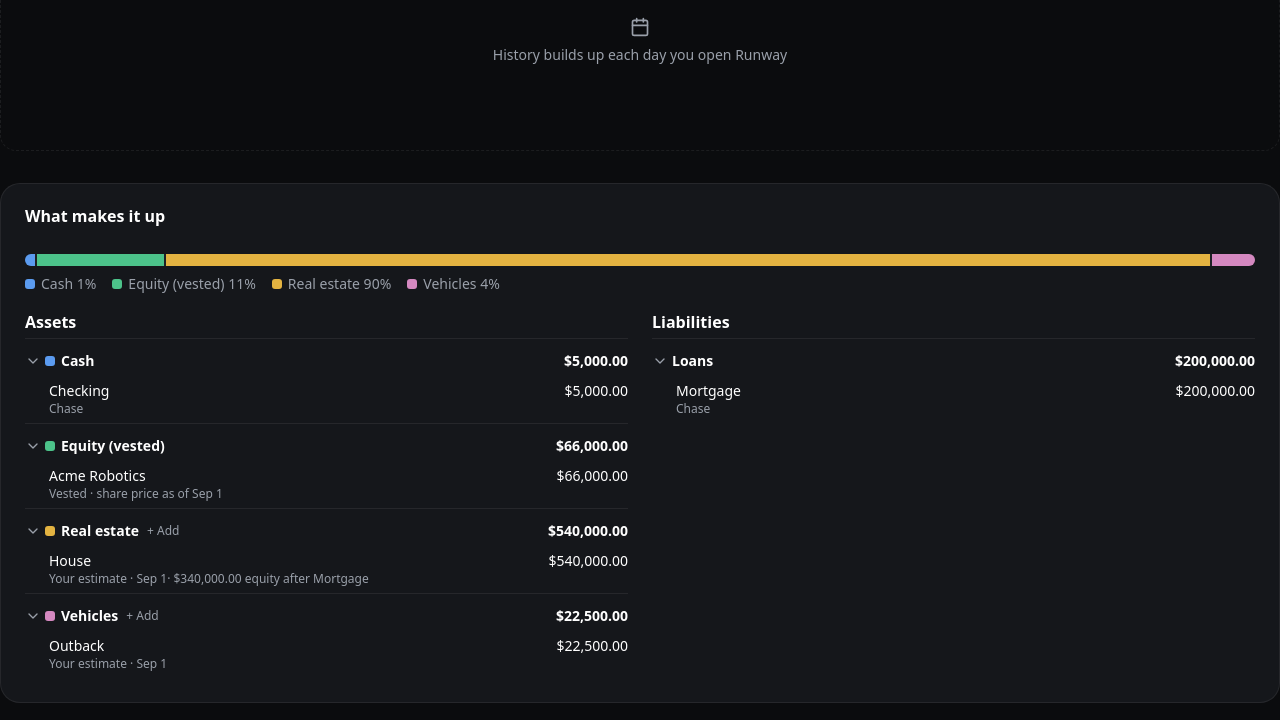
Test: the breakdown › folds a group away and back
This screenshot has width=1280, height=720.
(page scrolled)
Step 1. Click the button named "Cash, collapse" → (33, 361), box top-left (25, 353), bottom-right (41, 369)
(page scrolled)
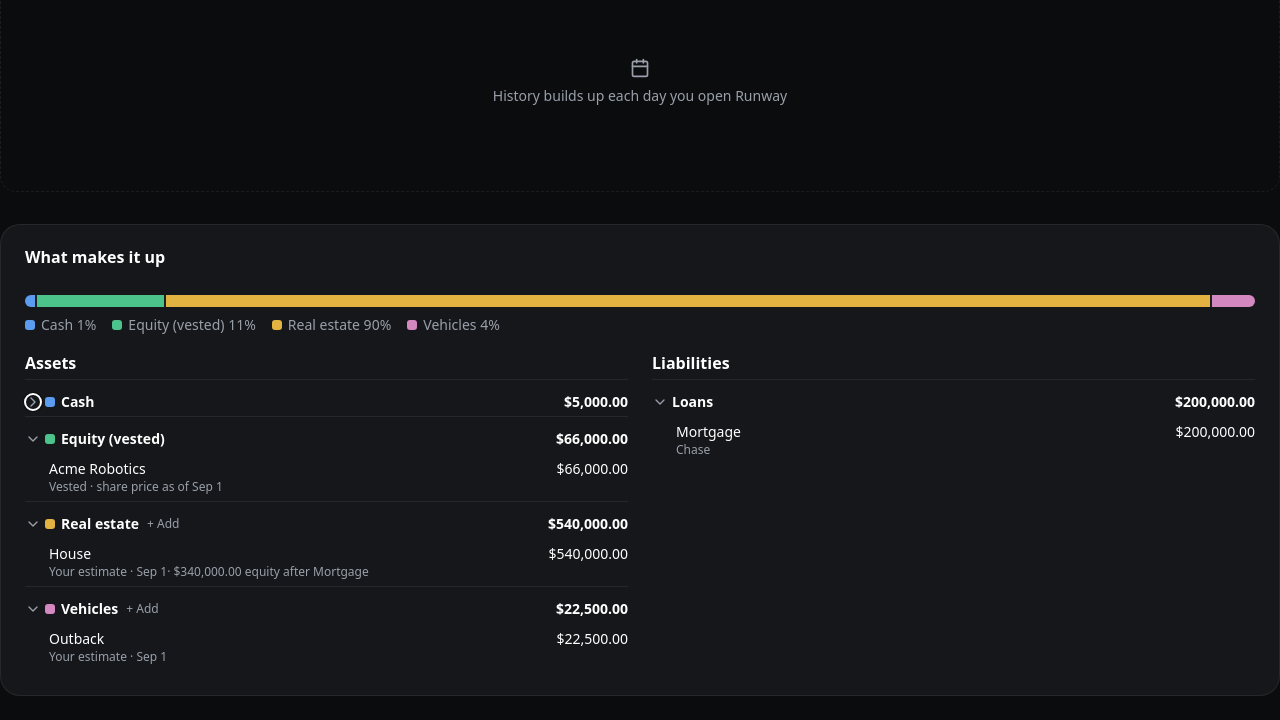
Result: the button "Checking" is gone
Step 2. Click the button named "Cash, expand" → (33, 402), box top-left (25, 394), bottom-right (41, 410)
(page scrolled)
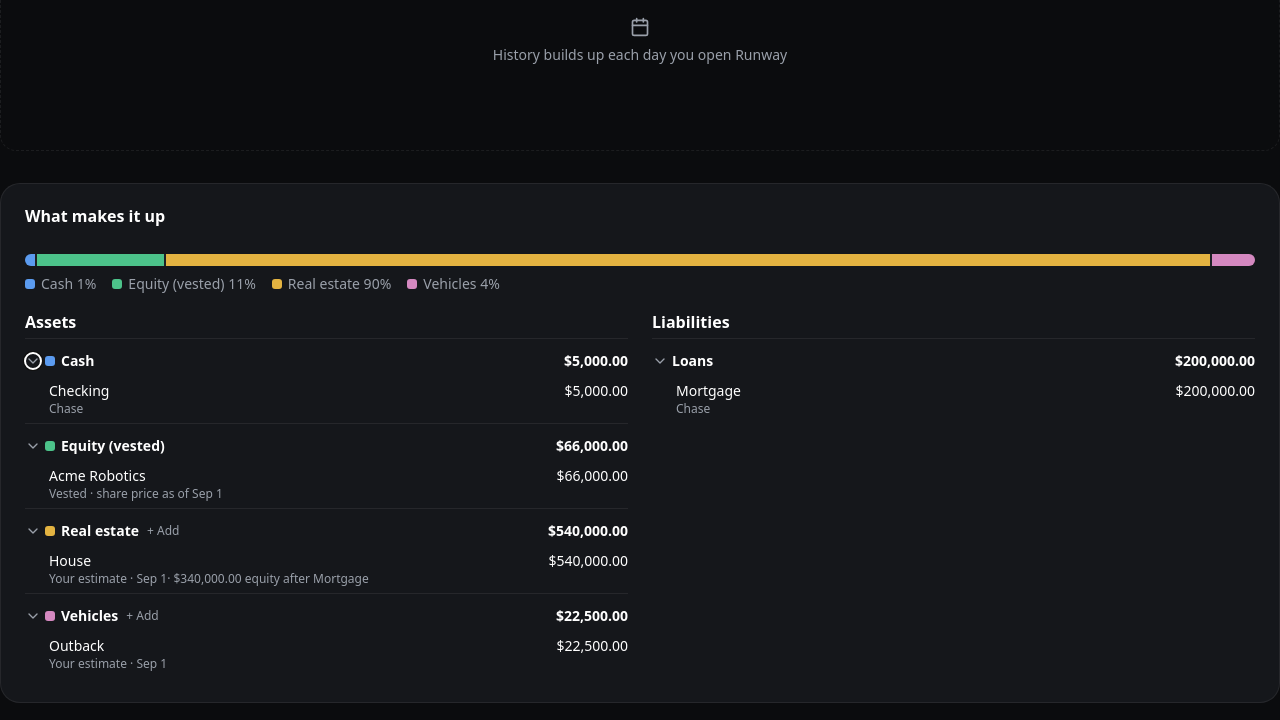
Result: the button "Checking Chase $5,000.00" is shown at top-left (25, 375), bottom-right (628, 423)
